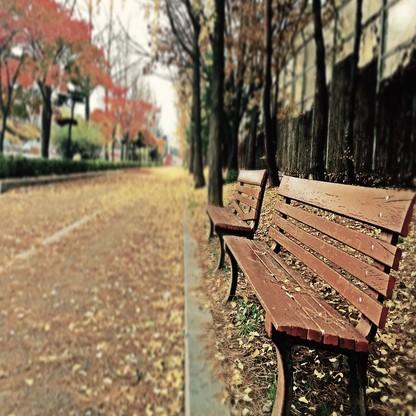obstacle: (214, 174, 408, 406)
